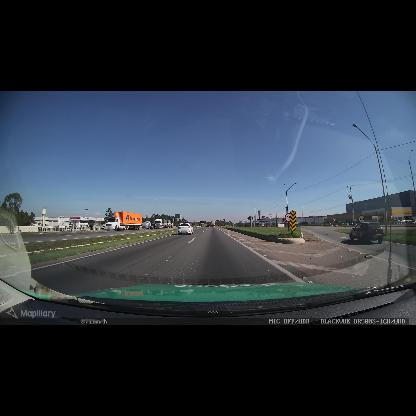O-MP: (290, 211, 296, 231)
R-19: (359, 215, 365, 223), (285, 213, 290, 222)
